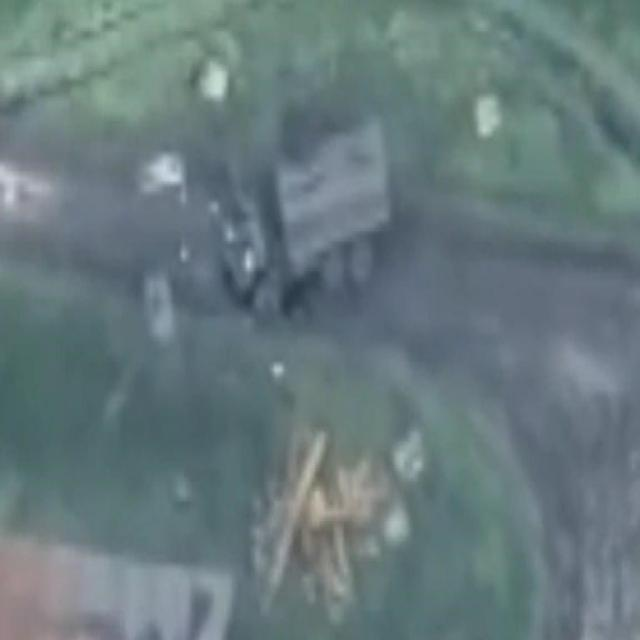TRUCK: (218, 107, 392, 329)
